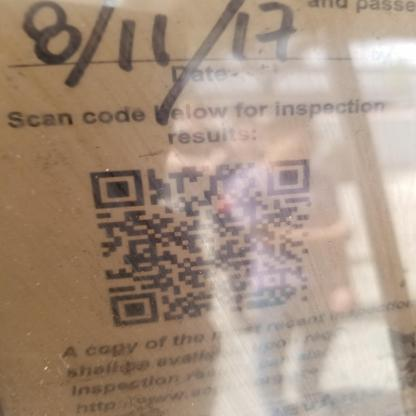qr: (88, 156, 316, 328)
